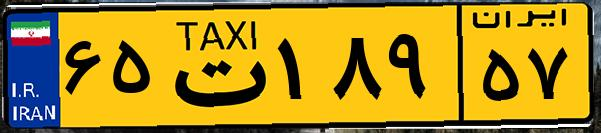1: (270, 28, 330, 110)
5: (475, 38, 525, 113), (110, 28, 158, 98)
6: (57, 26, 110, 100)
7: (525, 38, 570, 115)
8: (330, 28, 385, 110)
9: (385, 28, 445, 110)
ت: (158, 12, 270, 120)
